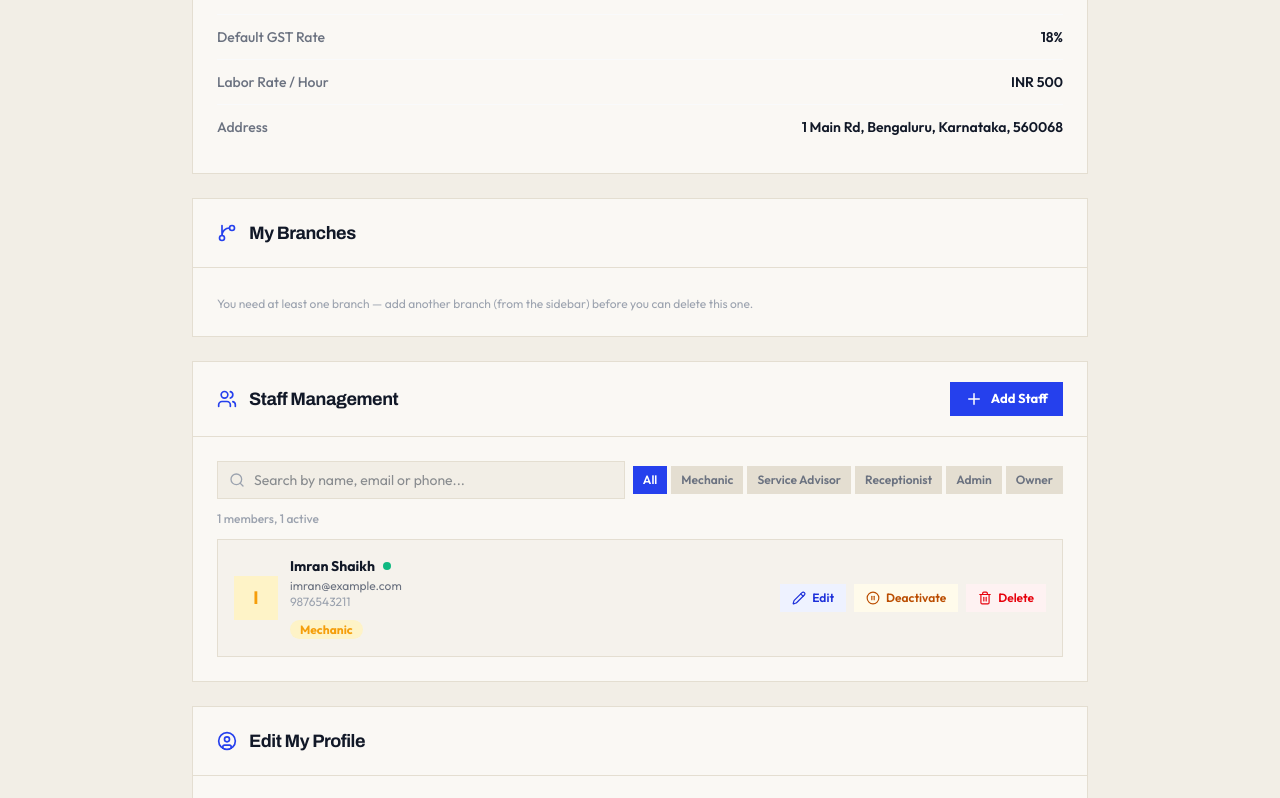
Test case: Settings forms › staff modal › requires a password when adding, but not when editing
The width and height of the screenshot is (1280, 798).
(page scrolled)
expect the text "Imran Shaikh" is shown: met, box [290,556,375,576]
Click the button "Add Staff".
click(1006, 399)  # box [950,382,1063,416]
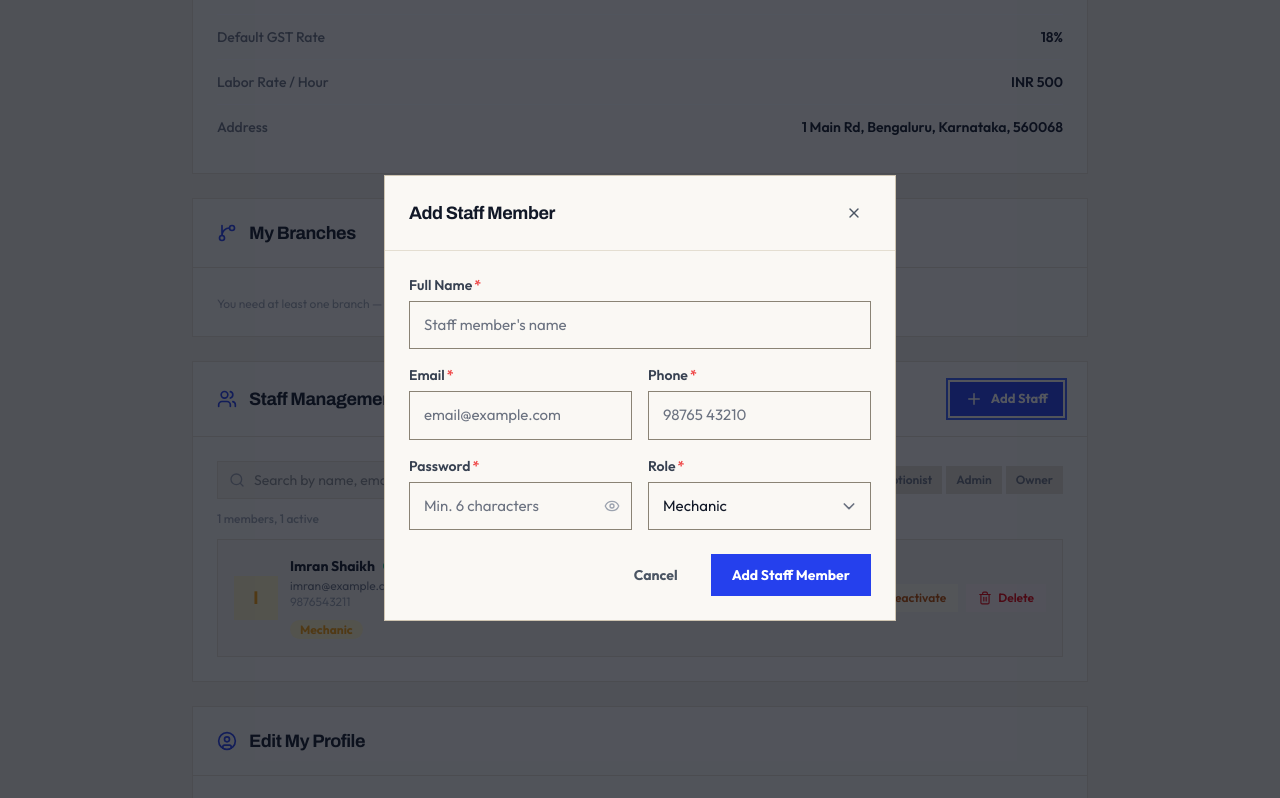
Type "New Person" into the field labelled "Full Name*".
click(640, 325); type("New Person")  # box [409,301,871,349]
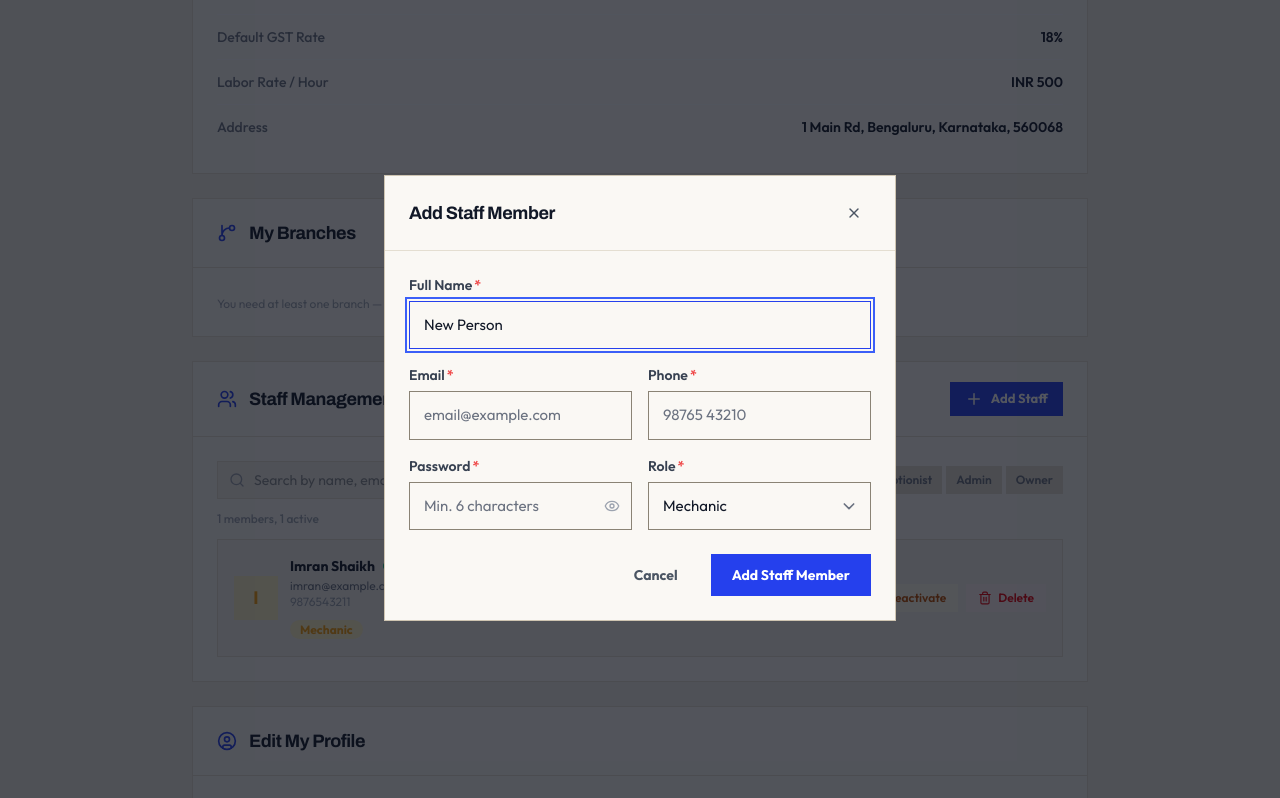
Type "new@example.com" into the field labelled "Email*".
click(520, 416); type("new@example.com")  # box [409,391,632,440]
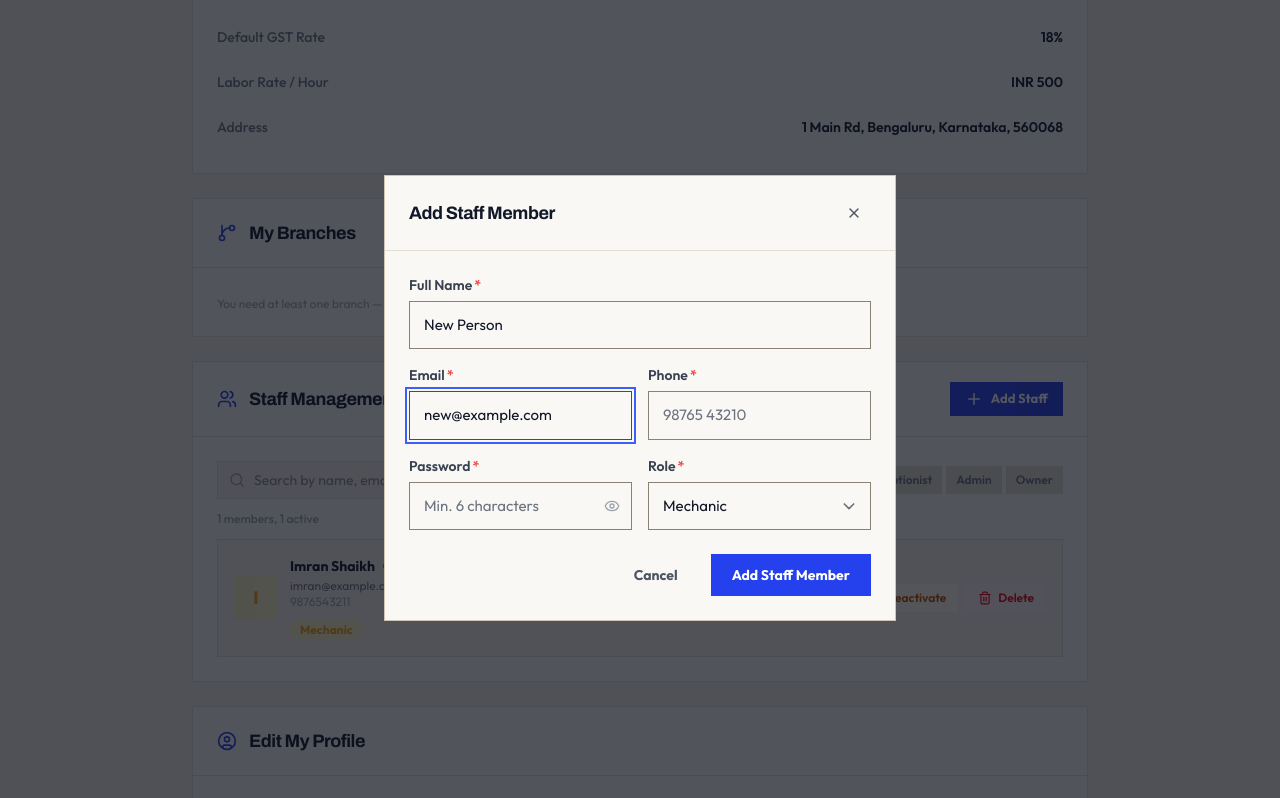
Type "9876543212" into the field labelled "Phone*".
click(760, 416); type("9876543212")  # box [648,391,871,440]
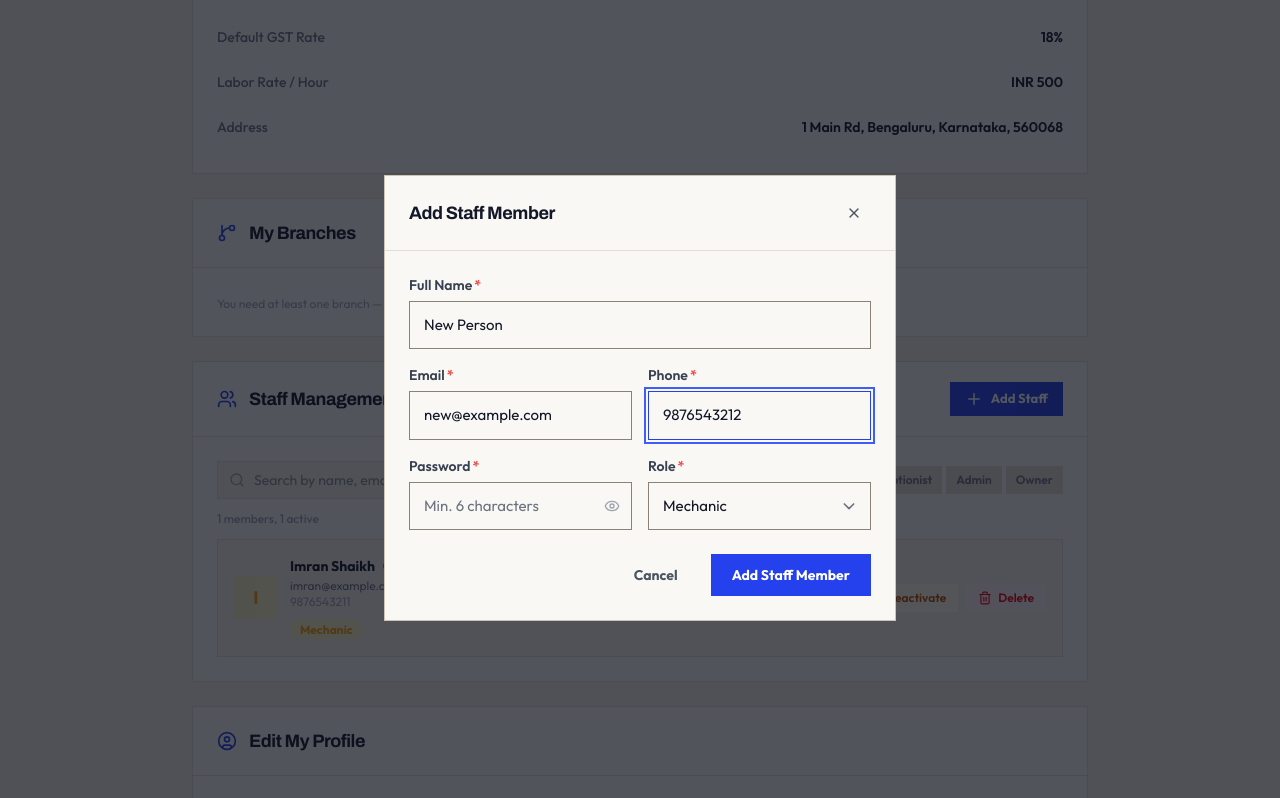
Click the button "Add Staff Member".
click(791, 575)  # box [711,554,871,596]
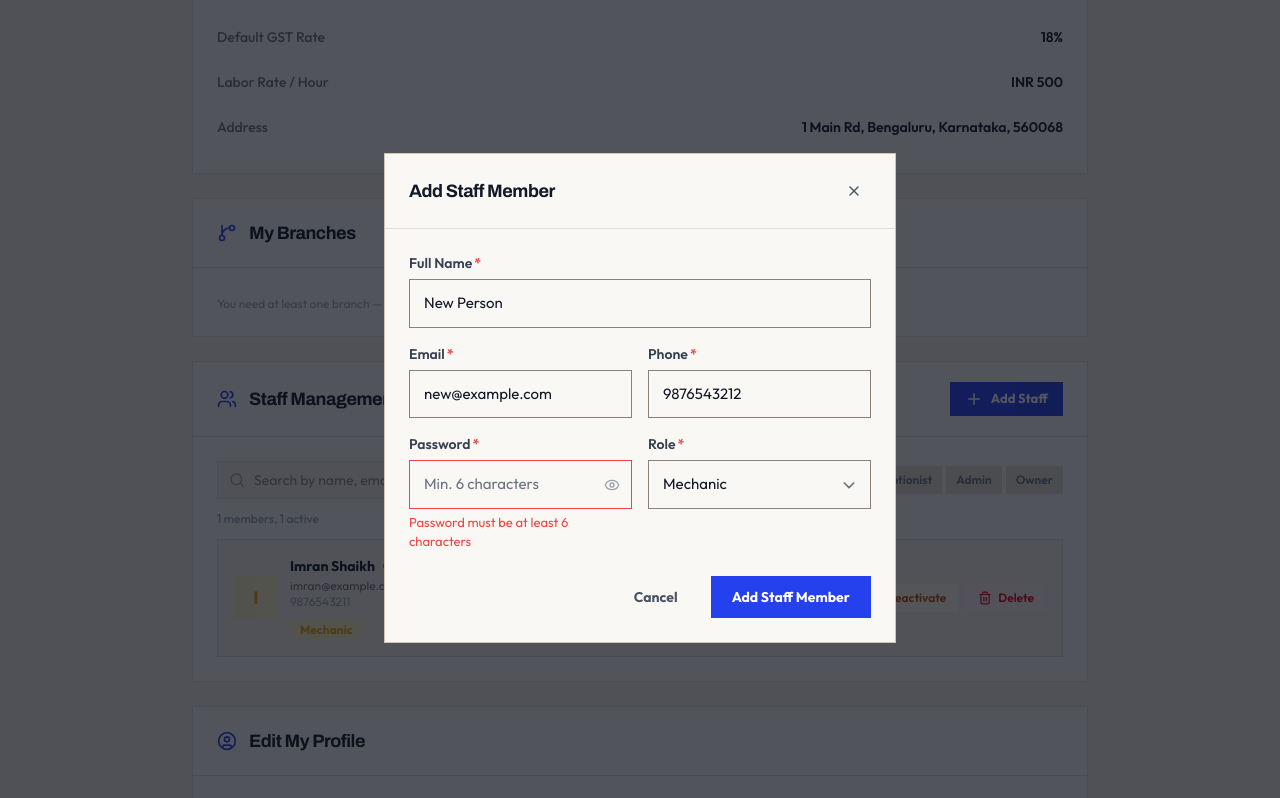
expect the text "Password must be at least 6 characters" is shown: met, box [409,514,568,549]
